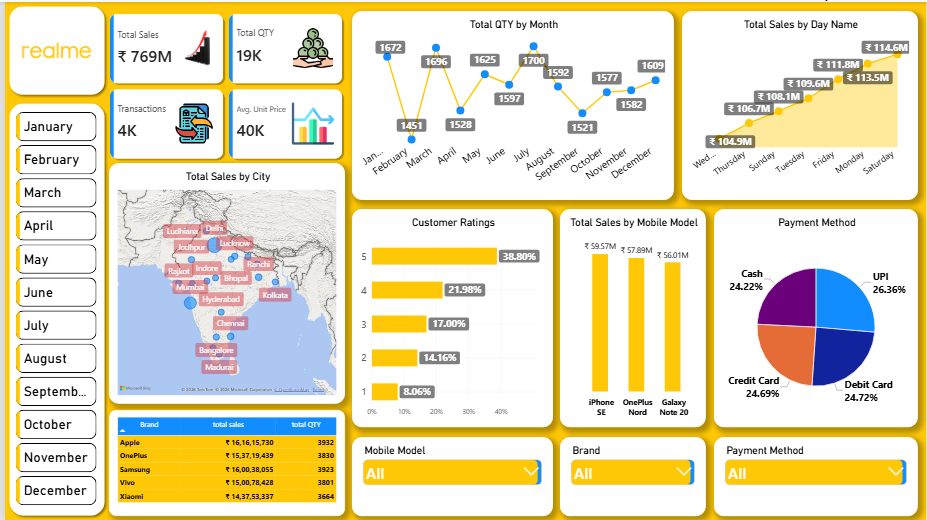

The page's visual inventory and layout, read from the dashboard file:
{"tool":"powerbi","page":{"name":"Page 1","canvas":[1920,1080],"ordinal":0},"visuals":[{"type":"shape","box":[0,0,216.8,202.2],"z":0},{"type":"image","box":[22.9,25,168.9,152.2],"z":1000},{"type":"shape","box":[0,202.2,216.8,877.8],"z":2000},{"type":"advancedSlicerVisual","fields":{"Values":["Sales_data_for_dashboard.Date.Variation.Date Hierarchy.Month"]},"box":[22.9,229.3,168.9,825.6],"z":3000},{"type":"cardVisual","fields":{"Data":["Sales_data_for_dashboard.total sales","Sales_data_for_dashboard.total QTY","Sales_data_for_dashboard.Transactions","Sales_data_for_dashboard.Avarage"]},"box":[213,19,496.3,315.6],"z":4000},{"type":"map","title":"Total Sales by City","fields":{"Category":["Sales_data_for_dashboard.City"],"Size":["Sales_data_for_dashboard.total sales"]},"box":[216.8,334.6,492.5,502],"z":5000},{"type":"lineChart","title":"Total QTY by Month","fields":{"Category":["Sales_data_for_dashboard.Date.Variation.Date Hierarchy.Month","Sales_data_for_dashboard.Date.Variation.Date Hierarchy.Day"],"Y":["Sales_data_for_dashboard.total QTY"]},"box":[723.5,18.8,671.4,394.1],"z":6000},{"type":"clusteredBarChart","title":"Customer Ratings","fields":{"Category":["Sales_data_for_dashboard.Customer Ratings"],"Y":["Divide(CountNonNull(Sales_data_for_dashboard.Customer Ratings), ScopedEval(CountNonNull(Sales_data_for_dashboard.Custome"]},"box":[723.5,431.6,419.1,454.5],"z":7000},{"type":"clusteredColumnChart","title":"Total Sales by Mobile Model","fields":{"Category":["Sales_data_for_dashboard.Mobile Model"],"Y":["Sales_data_for_dashboard.total sales"]},"box":[1157.1,431.6,304.4,454.5],"z":8000},{"type":"pieChart","title":"Payment Method","fields":{"Category":["Sales_data_for_dashboard.Payment Method"],"Y":["Sales_data_for_dashboard.Transactions"]},"box":[1478.2,431.6,425.3,454.5],"z":9000},{"type":"areaChart","title":"Total Sales by Day Name","fields":{"Category":["Sales_data_for_dashboard.Day Name"],"Y":["Sales_data_for_dashboard.total sales"]},"box":[1411.5,18.8,492,394.1],"z":10000},{"type":"tableEx","fields":{"Values":["Sales_data_for_dashboard.Brand","Sales_data_for_dashboard.total sales","Sales_data_for_dashboard.total QTY"]},"box":[216.8,850.7,492,221],"z":11000},{"type":"slicer","fields":{"Values":["Sales_data_for_dashboard.Mobile Model"]},"box":[723.5,906.9,419.1,164.7],"z":12000},{"type":"slicer","fields":{"Values":["Sales_data_for_dashboard.Brand"]},"box":[1157,907,304,165],"z":13000},{"type":"slicer","fields":{"Values":["Sales_data_for_dashboard.Payment Method"]},"box":[1478,907,425,165],"z":14000}]}

Visuals, with their boxes in screenshot pixels (x1, y1, x2, y2), scaled from the page's 1920x1080 canvas onto the 927x520 screenshot:
shape: (0,0,105,97)
image: (11,12,93,85)
shape: (0,97,105,519)
advancedSlicerVisual - Sales_data_for_dashboard.Date.Variation.Date Hierarchy.Month: (11,110,93,508)
cardVisual - Sales_data_for_dashboard.total sales x Sales_data_for_dashboard.total QTY: (103,9,342,161)
"Total Sales by City" map: (105,161,342,403)
"Total QTY by Month" lineChart: (349,9,673,199)
"Customer Ratings" clusteredBarChart: (349,208,552,427)
"Total Sales by Mobile Model" clusteredColumnChart: (559,208,706,427)
"Payment Method" pieChart: (714,208,919,427)
"Total Sales by Day Name" areaChart: (681,9,919,199)
tableEx - Sales_data_for_dashboard.Brand x Sales_data_for_dashboard.total sales: (105,410,342,516)
slicer - Sales_data_for_dashboard.Mobile Model: (349,437,552,516)
slicer - Sales_data_for_dashboard.Brand: (559,437,705,516)
slicer - Sales_data_for_dashboard.Payment Method: (714,437,919,516)
